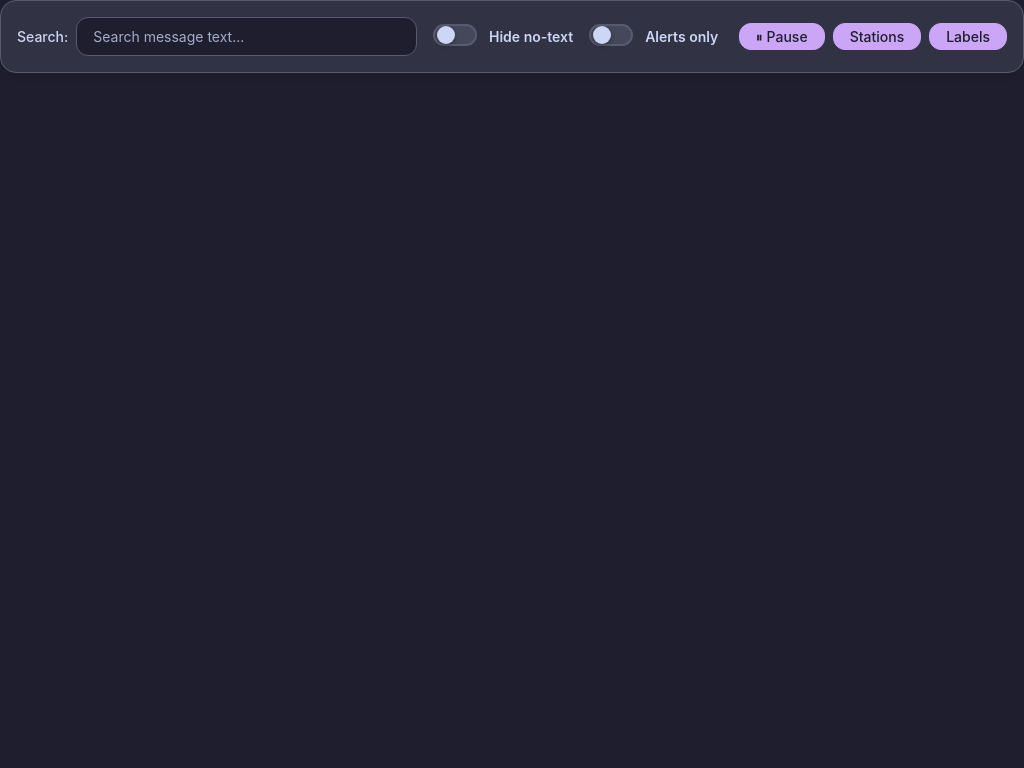
Scenario: MessageFilters › station filter modal › opens on click, renders one checkbox per station id
Click the button "Stations": (877, 37) [833, 23, 921, 50]
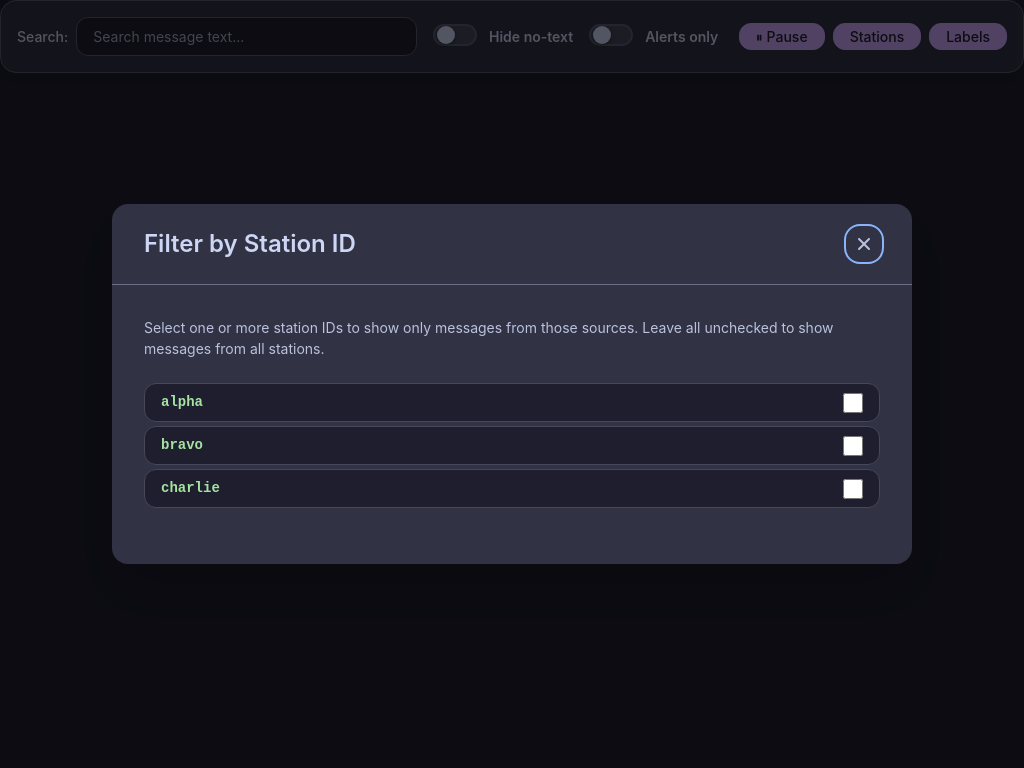
Expected: the checkbox labelled "alpha" is shown, [843, 392, 863, 412]
Expected: the checkbox labelled "bravo" is shown, [843, 436, 863, 456]
Expected: the checkbox labelled "charlie" is shown, [843, 478, 863, 498]
